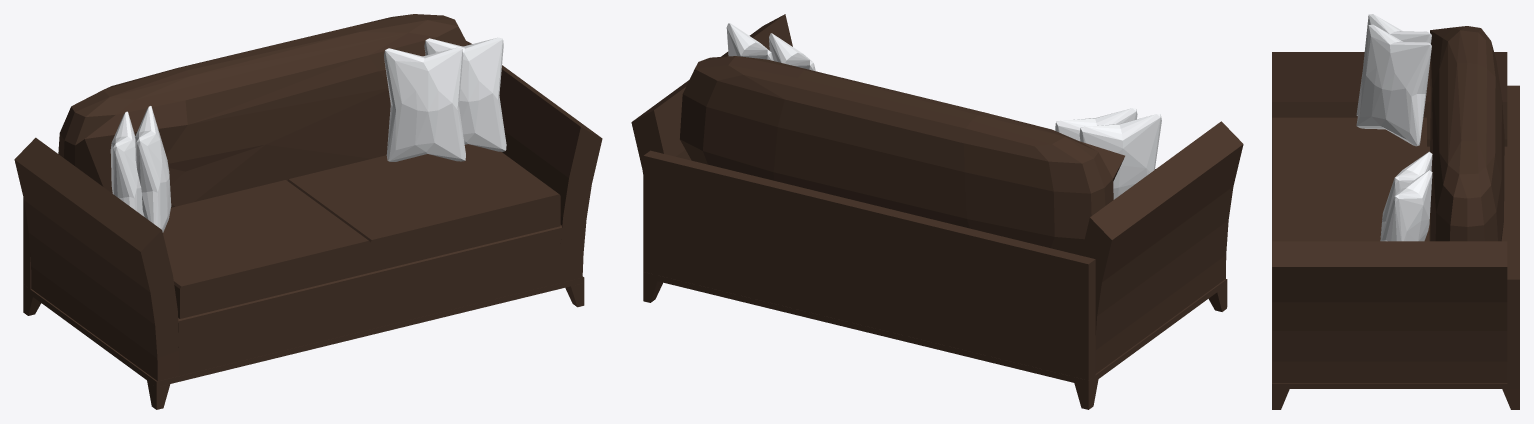
The model's file is Accesories_Sofa_Large.005.glb.
3 renders of one model, left to right at view 1: azimuth 30°, elevation 25°; view 2: azimuth 150°, elevation 25°; view 3: azimuth 270°, elevation 25°, orthographic. The views are drawn at different scales.
Visible parts, largest first — view 1: Accesories_Sofa_Large.005; view 2: Accesories_Sofa_Large.005; view 3: Accesories_Sofa_Large.005.
Part boxes in pixels (x1,y1,x2,y2): Accesories_Sofa_Large.005: (14, 14, 602, 409); Accesories_Sofa_Large.005: (631, 14, 1243, 409); Accesories_Sofa_Large.005: (1272, 14, 1519, 409).
Bounding box in the file's own units: 1.83 × 0.8714 × 0.9151.
Materials: 1 (1 with a texture image).
